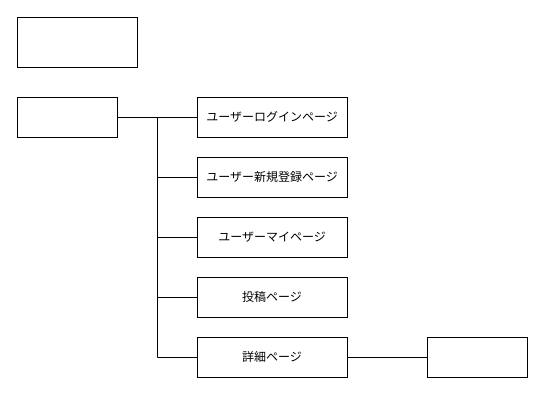
Some shapes in this 545 by 395 pixel diagram are drawn without their labels. Here are the shapes that lost their labels. From the top down, the centre of each, then its label:
At (x=77, y=42): "画面遷移図を作成".
At (x=67, y=117): "一覧ページ".
At (x=477, y=357): "編集ページ".
